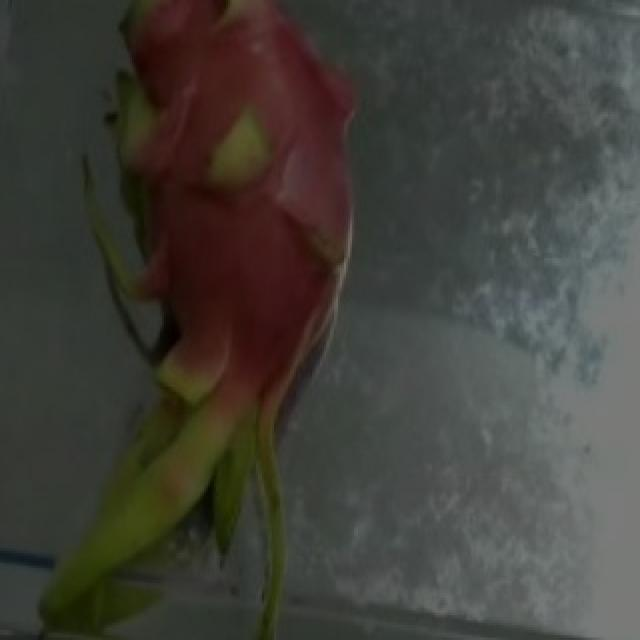fruit: (8, 0, 402, 414), (20, 211, 388, 635)
